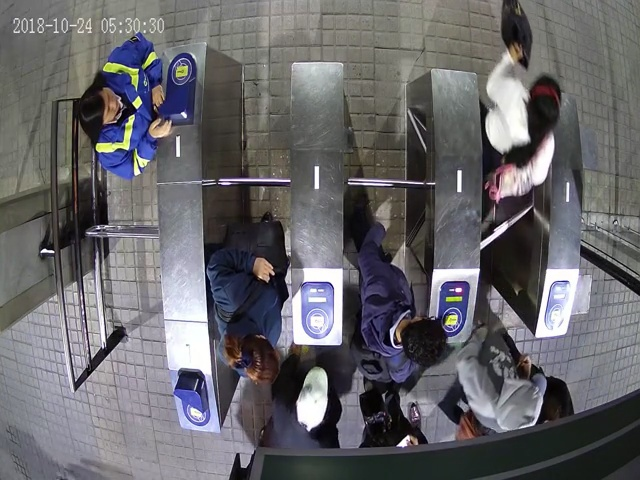Chaleco_azul: (79, 33, 173, 181)
